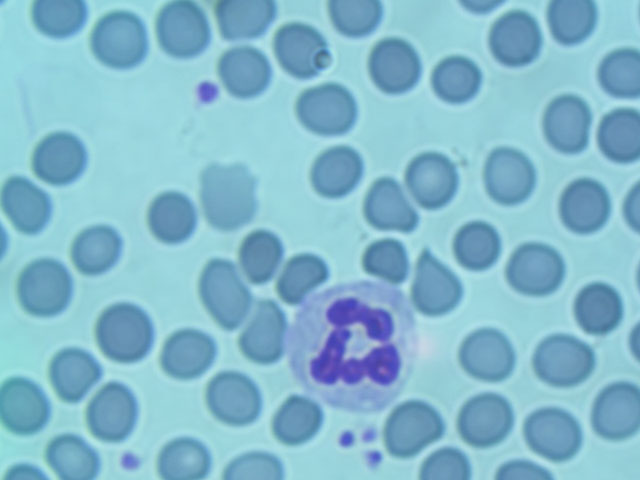Platelets: (333, 424, 388, 471), (184, 72, 224, 109), (113, 446, 149, 477)
RBC: (200, 167, 262, 229), (304, 140, 366, 202), (293, 81, 355, 143), (272, 20, 334, 82), (221, 40, 283, 102), (93, 8, 155, 70), (30, 121, 92, 183), (14, 254, 76, 316), (93, 299, 155, 361), (82, 380, 144, 442), (156, 323, 218, 385), (201, 366, 263, 428), (193, 264, 255, 326), (225, 222, 287, 284), (355, 174, 417, 236), (405, 149, 467, 211), (477, 145, 539, 207), (426, 56, 491, 115), (368, 40, 433, 99), (450, 213, 515, 272), (404, 254, 469, 313), (345, 227, 410, 286), (459, 322, 524, 381), (459, 386, 524, 445), (386, 393, 451, 452), (150, 1, 212, 62), (1, 178, 62, 240), (1, 374, 62, 436), (532, 96, 596, 155), (488, 10, 552, 69), (553, 177, 617, 236), (503, 239, 567, 298), (532, 331, 596, 390), (564, 277, 628, 336), (45, 343, 103, 401), (271, 395, 325, 447), (143, 190, 195, 243), (72, 225, 127, 274), (45, 432, 100, 480), (281, 250, 327, 299)
WBC: (294, 287, 420, 407)
